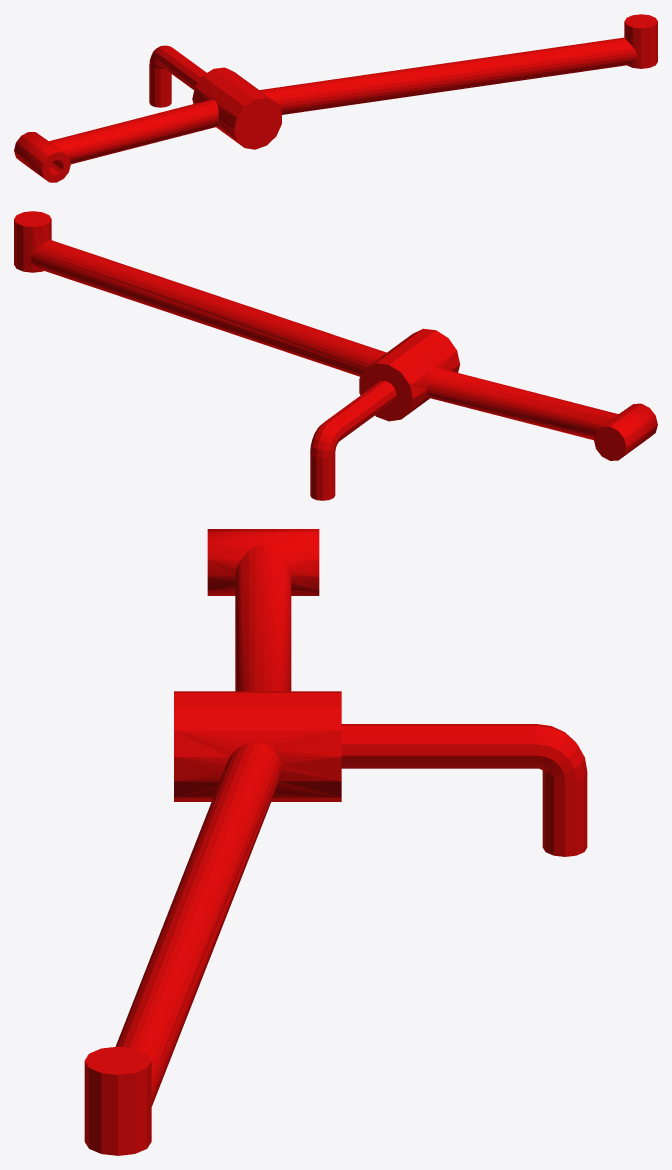
File: RightMainRocket.dae
3 renders of one model, top to bottom at view 1: azimuth 30°, elevation 25°; view 2: azimuth 150°, elevation 25°; view 3: azimuth 270°, elevation 25°, orthographic. The views are drawn at different scales.
Visible parts, largest first — view 1: RightMainRocket; view 2: RightMainRocket; view 3: RightMainRocket.
Part boxes in pixels (x1=…): RightMainRocket: x1=14, y1=14, x2=657, y2=182; RightMainRocket: x1=14, y1=211, x2=657, y2=500; RightMainRocket: x1=84, y1=529, x2=587, y2=1155.
Bounding box in the file's own units: 1.22 × 0.45 × 0.1496.
